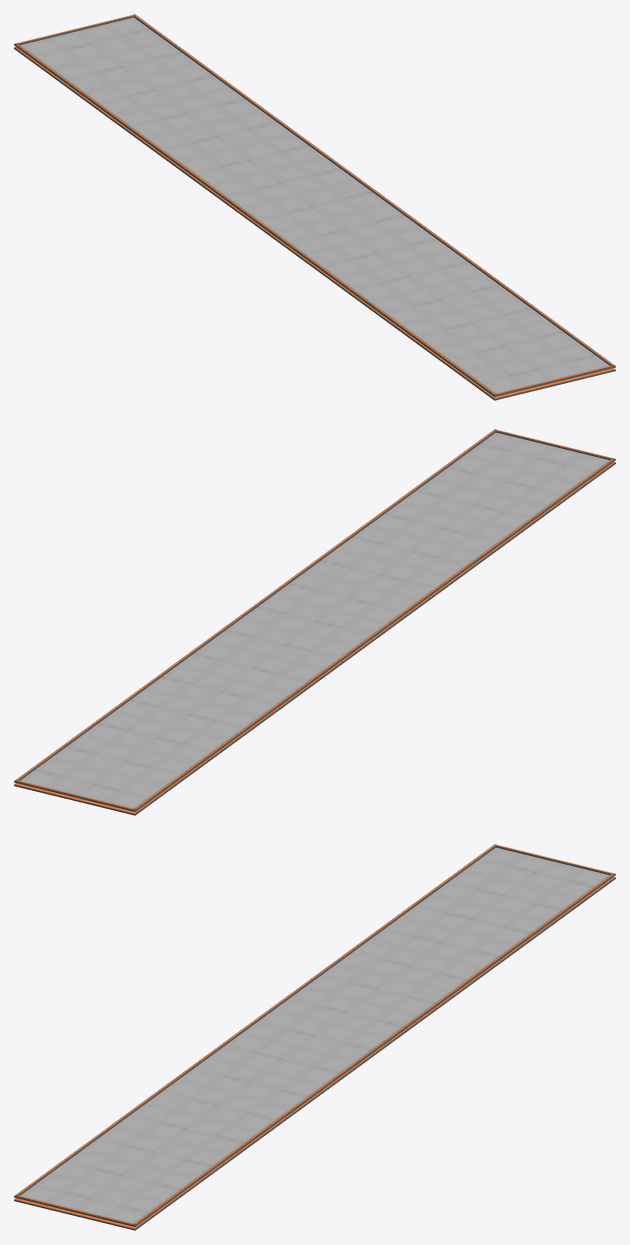
Rendered from Bodenplatte_08.glb.
3 renders of one model, top to bottom at view 1: azimuth 30°, elevation 25°; view 2: azimuth 150°, elevation 25°; view 3: azimuth 330°, elevation 25°, orthographic.
Visible parts, largest first — view 1: Bodenplatte_08; view 2: Bodenplatte_08; view 3: Bodenplatte_08.
Part boxes in pixels (x1,y1,x2,y2): Bodenplatte_08: (14, 14, 615, 400); Bodenplatte_08: (14, 429, 615, 815); Bodenplatte_08: (14, 844, 615, 1230).
Size of the model in its own units: 5.05 by 0.2097 by 34.67.
3 materials, 1 textured.
